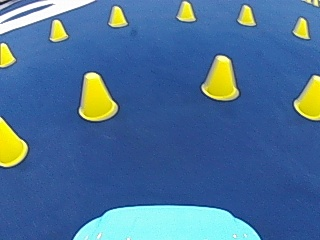cone: (76, 71, 118, 121), (200, 54, 239, 100), (0, 117, 27, 164), (293, 74, 320, 118), (107, 5, 127, 27), (236, 4, 256, 26), (48, 19, 68, 41), (291, 16, 310, 39), (175, 0, 195, 21), (0, 42, 15, 66)
